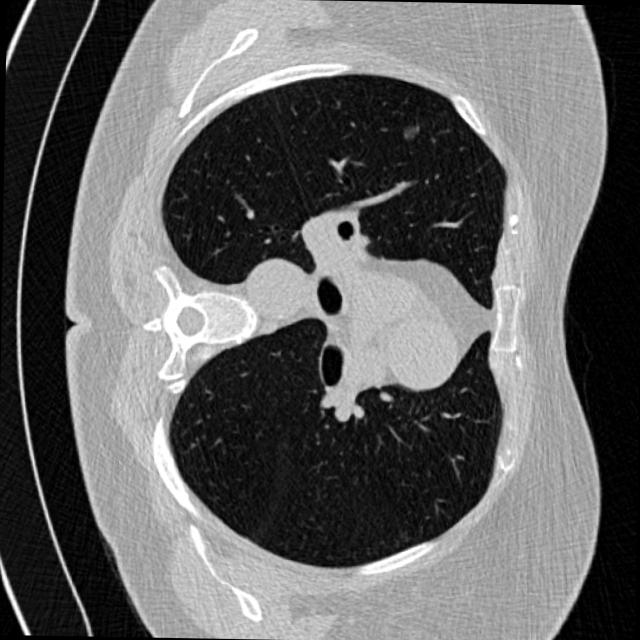nodule: (398, 122, 424, 146)
